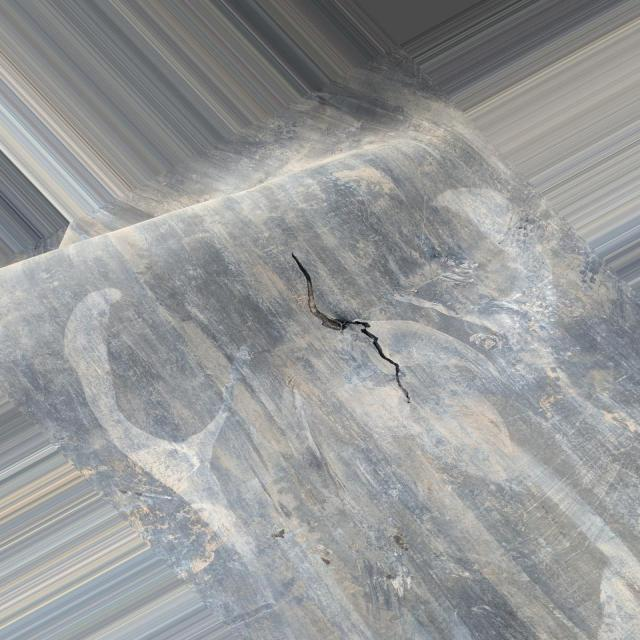Tear: (287, 250, 419, 412)
